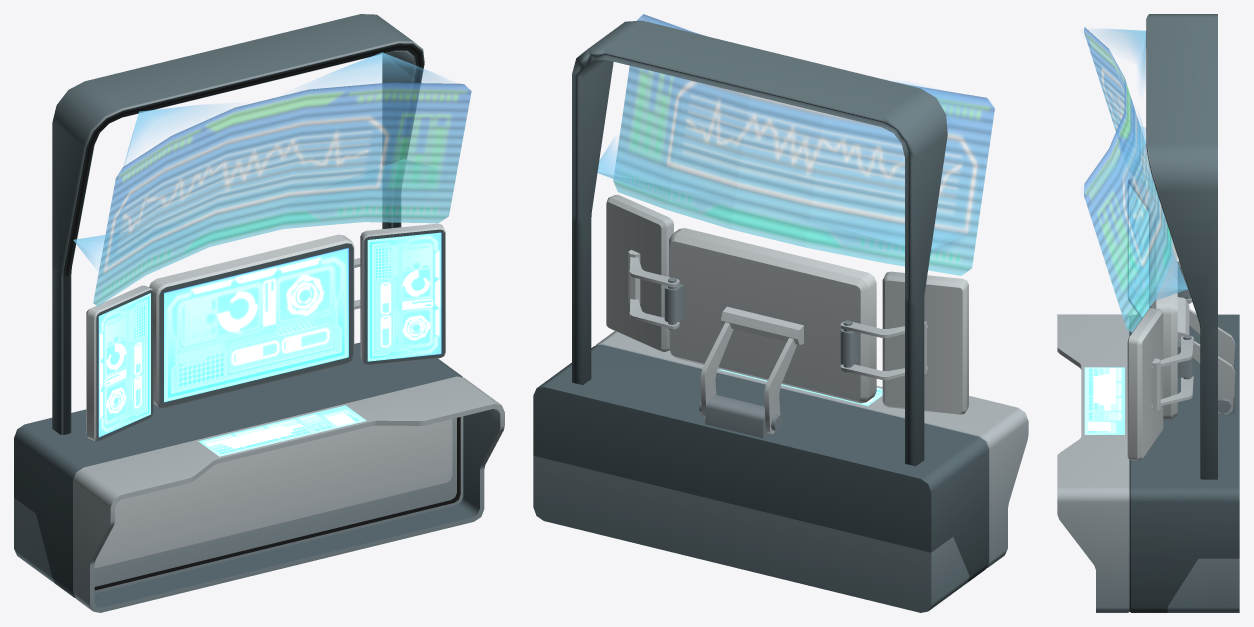
The model's file is Terminal_011.glb.
3 renders of one model, left to right at view 1: azimuth 30°, elevation 25°; view 2: azimuth 150°, elevation 25°; view 3: azimuth 270°, elevation 25°, orthographic. The views are drawn at different scales.
Parts seen in each view (by area): view 1: Terminal_011, Terminal_011_monitor_002, Terminal_011_monitor_003; view 2: Terminal_011, Terminal_011_monitor_003, Terminal_011_monitor_002; view 3: Terminal_011, Terminal_011_monitor_002, Terminal_011_monitor_003.
Part boxes in pixels (x1=…): Terminal_011: x1=14, y1=14, x2=504, y2=612; Terminal_011_monitor_002: x1=354, y1=223, x2=445, y2=365; Terminal_011_monitor_003: x1=86, y1=285, x2=153, y2=441; Terminal_011: x1=533, y1=14, x2=1028, y2=612; Terminal_011_monitor_003: x1=840, y1=271, x2=968, y2=414; Terminal_011_monitor_002: x1=606, y1=194, x2=679, y2=351; Terminal_011: x1=1057, y1=14, x2=1239, y2=612; Terminal_011_monitor_002: x1=1127, y1=308, x2=1193, y2=460; Terminal_011_monitor_003: x1=1128, y1=178, x2=1192, y2=318.
Size of the model in its own units: 2 by 2.29 by 0.8474.
Materials: 5 (4 with a texture image).
